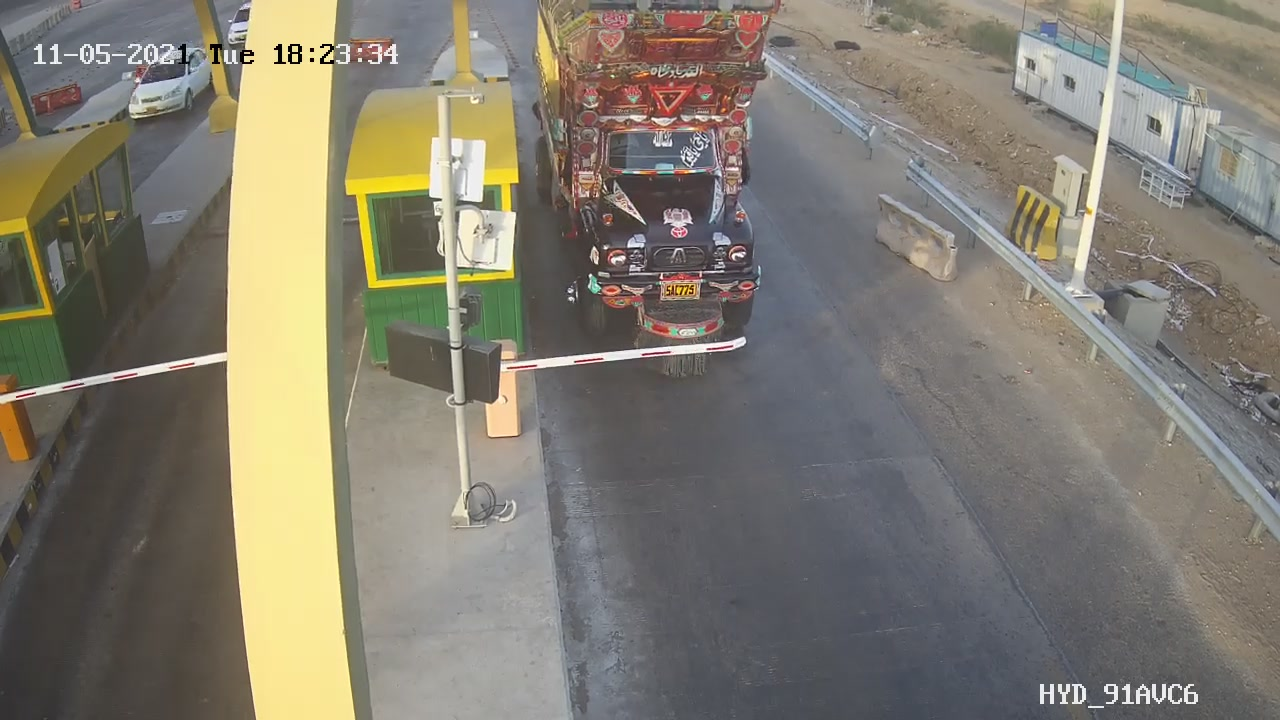F5: (527, 11, 814, 374)
